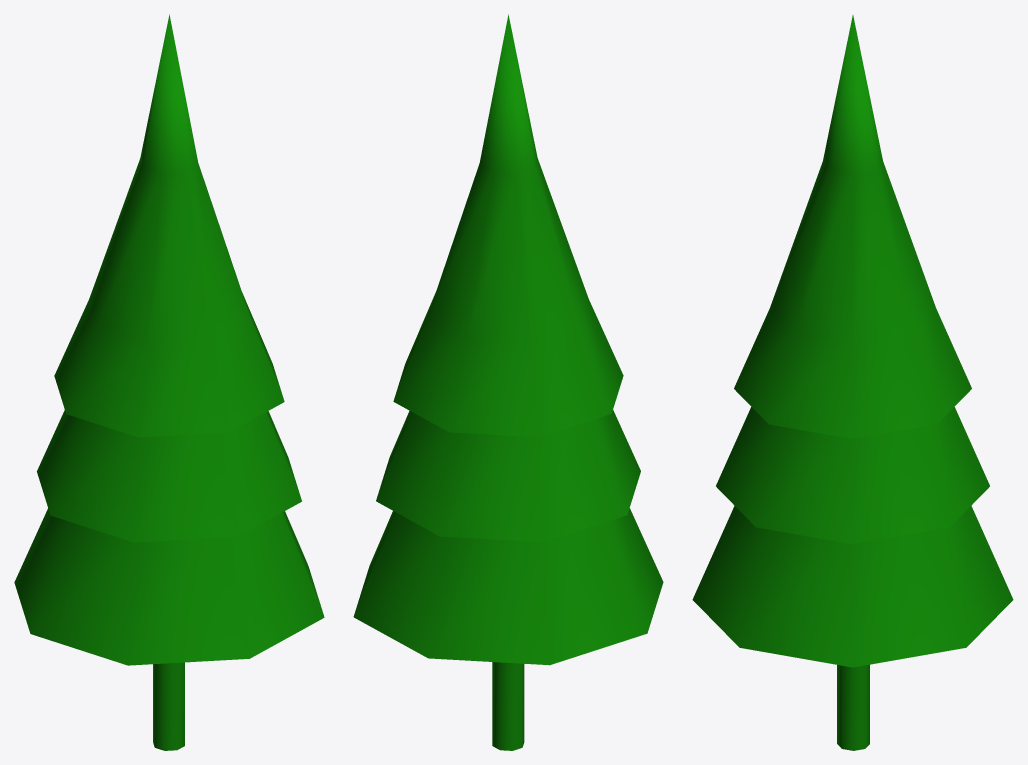
File: tree2.fbx
3 views of the same model, side by side, from view 1: azimuth 30°, elevation 25°; view 2: azimuth 150°, elevation 25°; view 3: azimuth 270°, elevation 25° (orthographic).
Parts seen in each view (by area): view 1: Firtree_30; view 2: Firtree_30; view 3: Firtree_30.
Boxes of the visible parts, x1=… form: Firtree_30: x1=14, y1=14, x2=324, y2=750; Firtree_30: x1=353, y1=14, x2=663, y2=750; Firtree_30: x1=692, y1=15, x2=1013, y2=750.
Bounding box in the file's own units: 924 × 2319 × 924.
